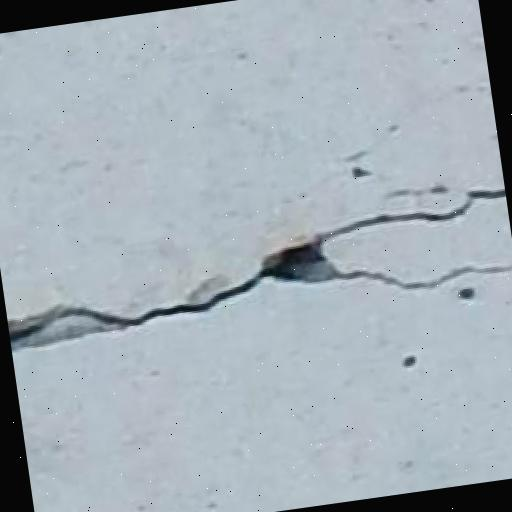spalling: (9, 165, 510, 360)
